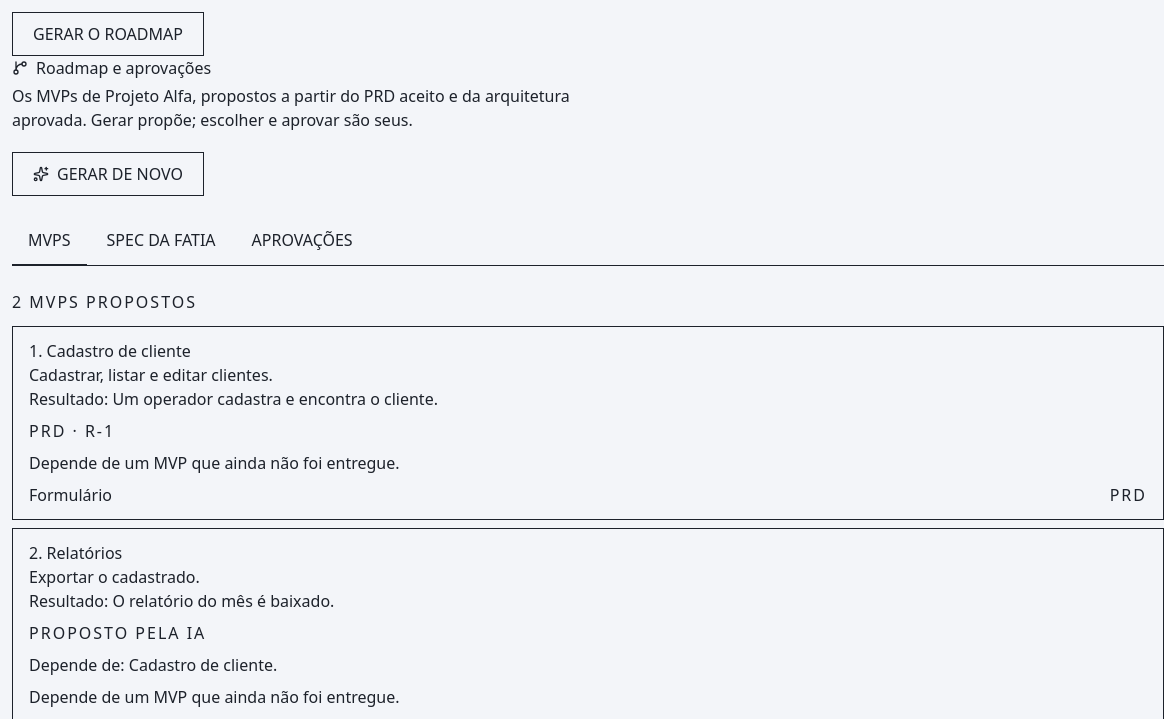
Test case: a SPEC e as perguntas abertas (critério 4) › sem MVP escolhido, a aba diz o que falta em vez de sumir
This screenshot has width=1164, height=719.
Step 1. Click the tab "SPEC da fatia" → [161, 241], box [91, 216, 232, 266]
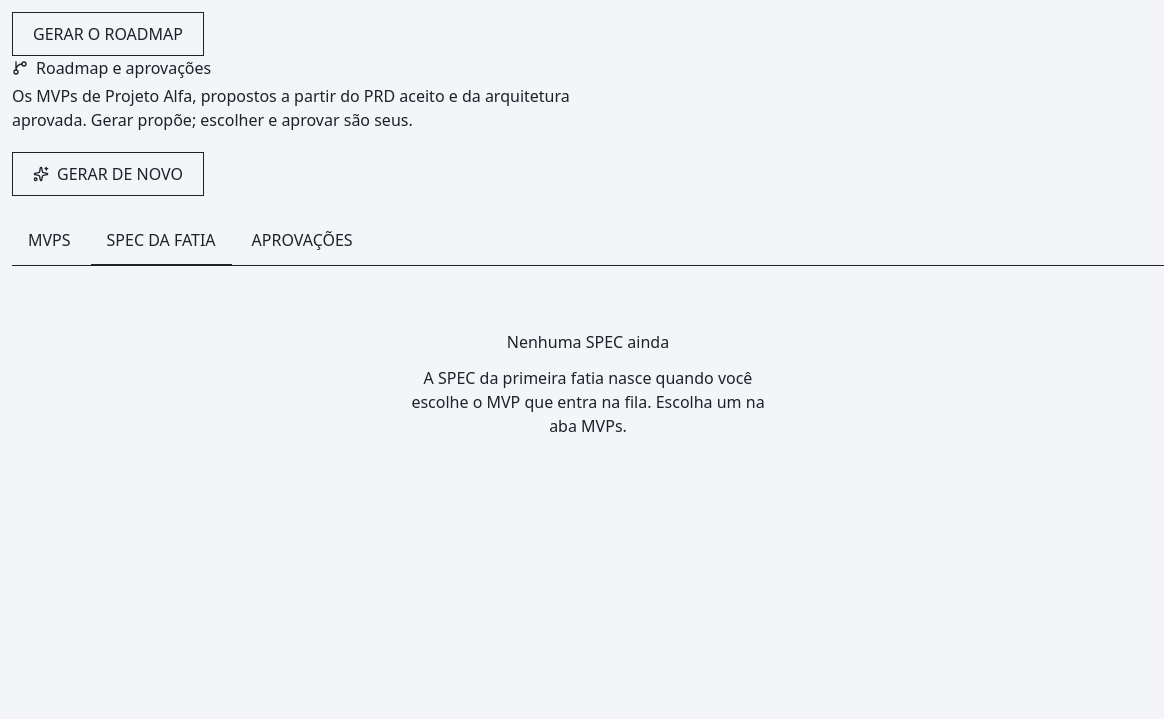
Expected: the text "Nenhuma SPEC ainda" is shown, [507, 330, 669, 354]
Expected: the text "escolhe o MVP que entra na fila" is shown, [411, 367, 765, 437]
